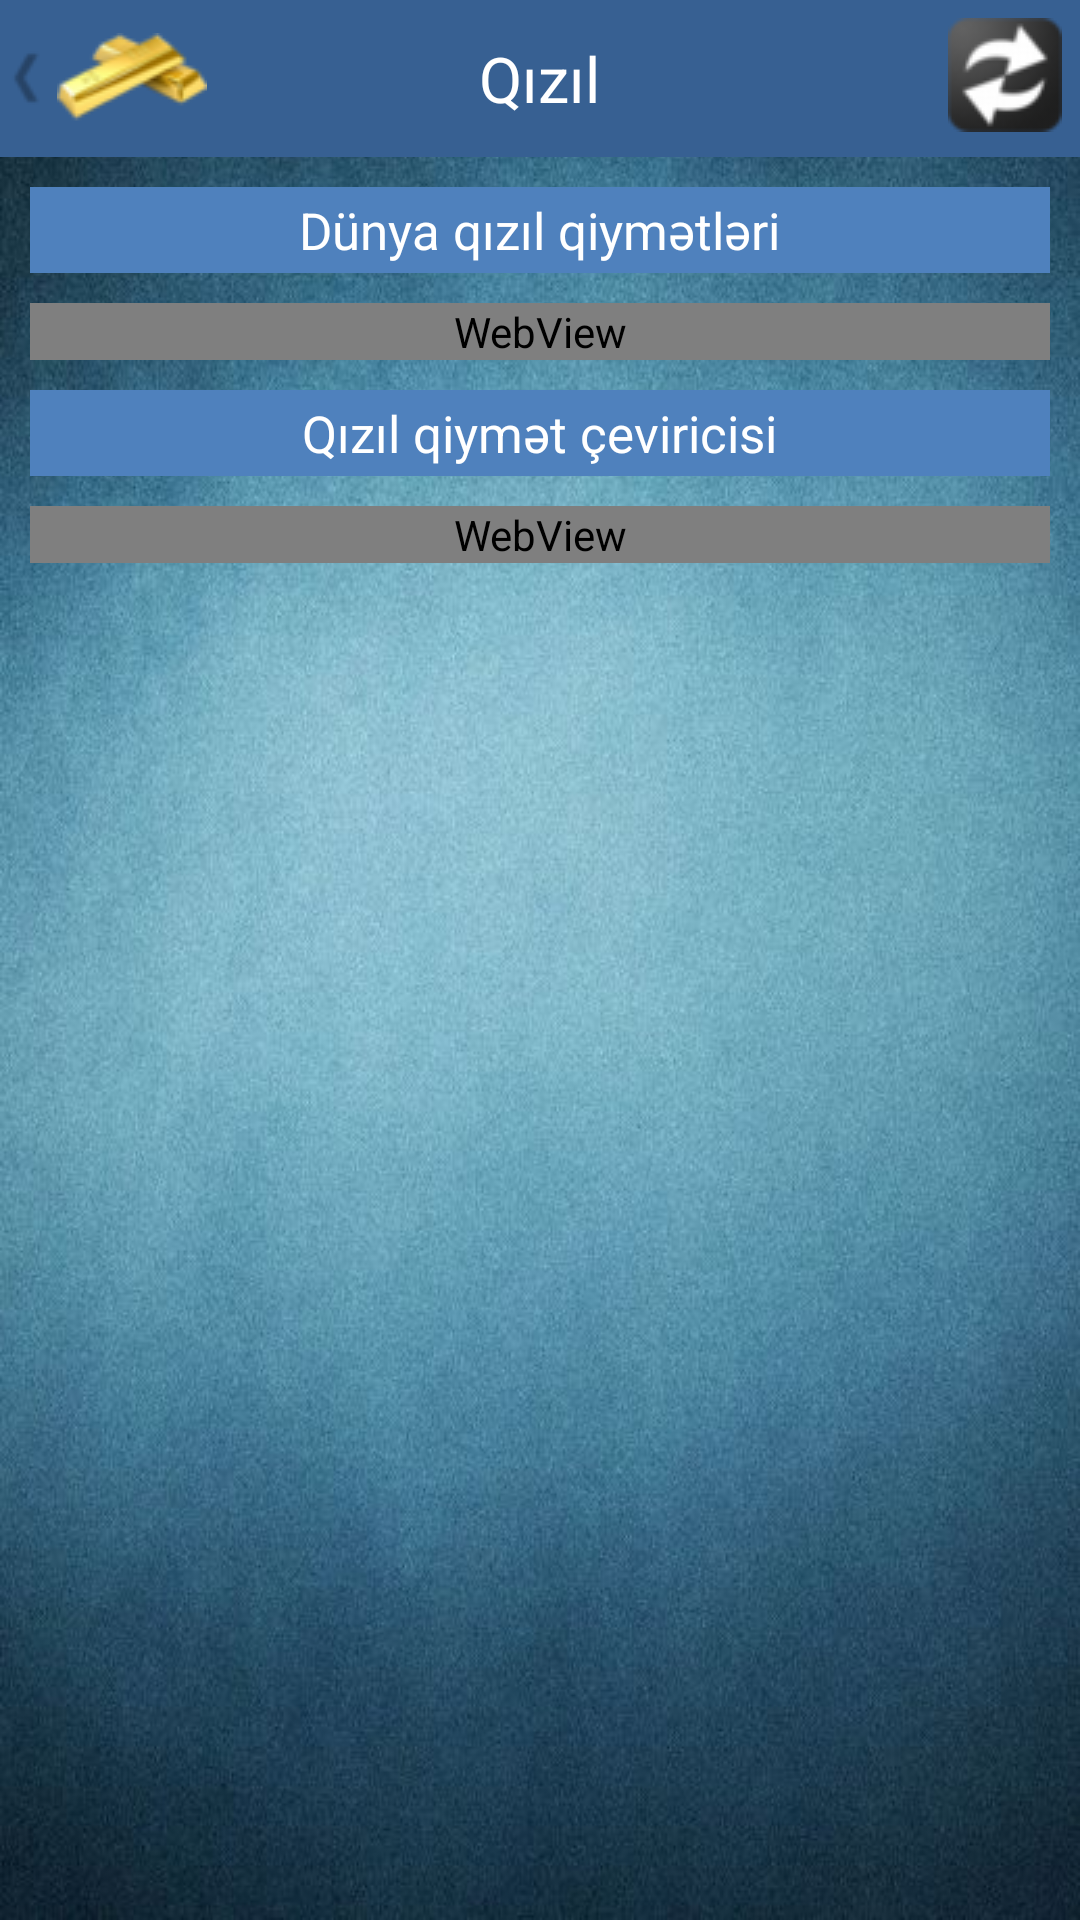

Icons on this 1080px×1920px Android screen, each with its box as (x1, y1, x2, y2):
arrow: (16, 54, 36, 102)
qizil: (57, 33, 207, 120)
reload: (948, 18, 1062, 132)
